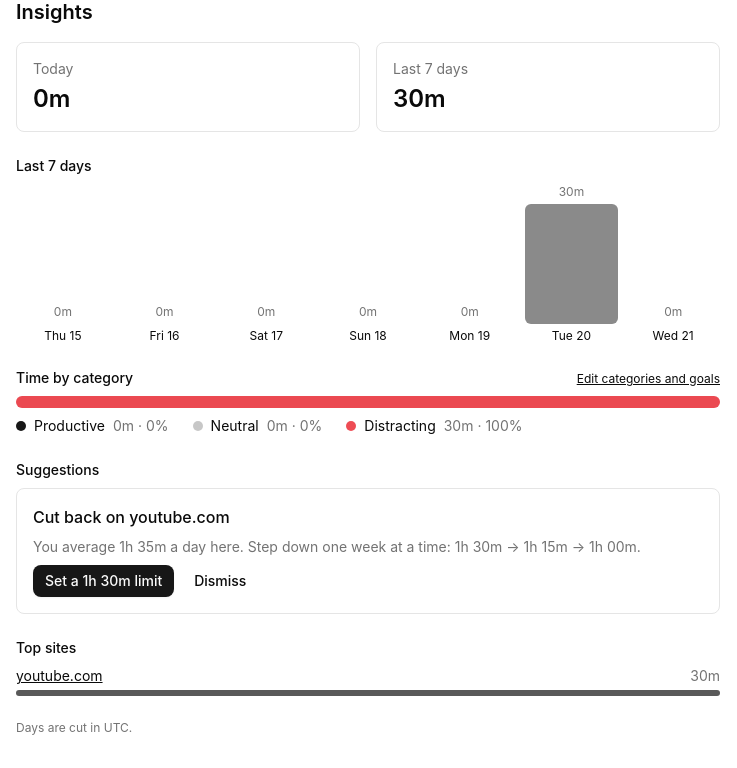
Test: Recommendations on Insights › says so when applying fails, and keeps the suggestion
(page scrolled)
Click the button "Set a 1h 30m limit" at [104, 581], box [33,565,174,597]
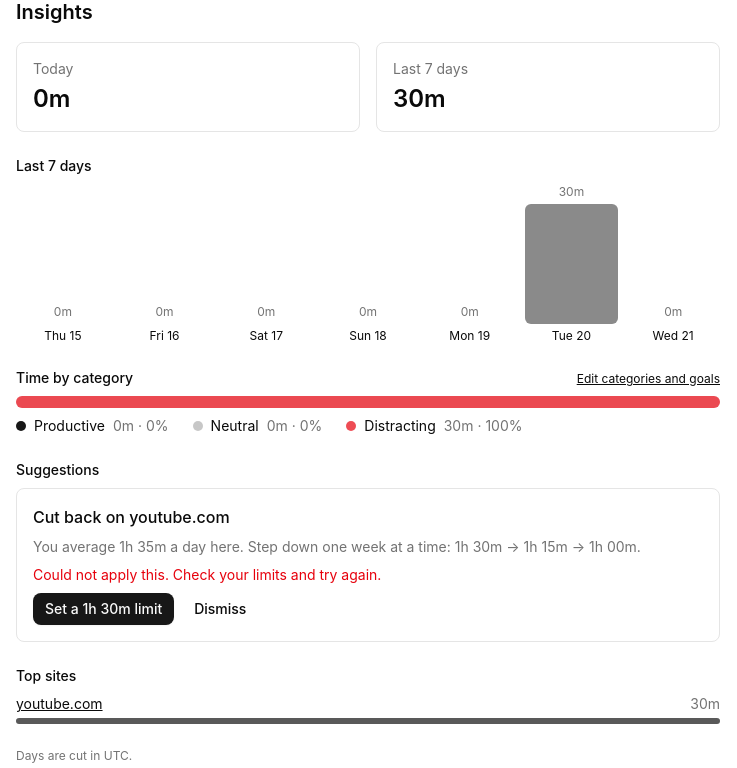
Check: the list item with test id "recommendation" is shown, box [16,488,720,642]
Check: the message shows "Could not apply", box [33,566,381,583]
